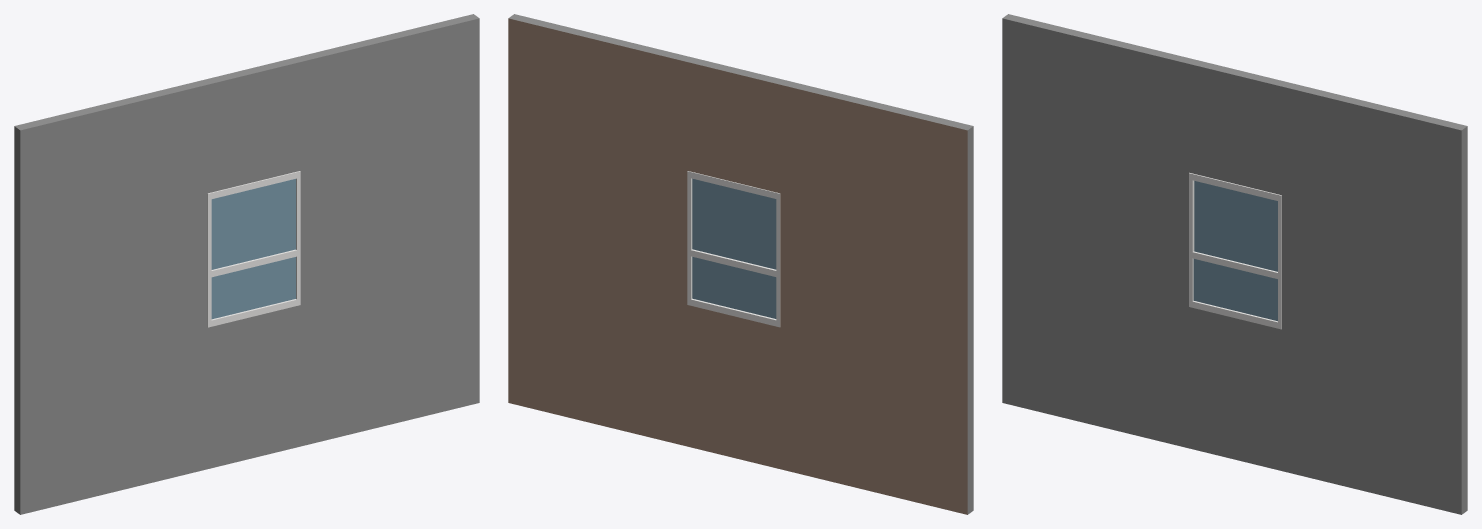
The model's file is Wall_10.fbx.
3 views of the same model, side by side, from view 1: azimuth 30°, elevation 25°; view 2: azimuth 150°, elevation 25°; view 3: azimuth 330°, elevation 25° (orthographic).
Visible parts, largest first — view 1: Wall_10; view 2: Wall_10; view 3: Wall_10.
Part boxes in pixels (x1,y1,x2,y2): Wall_10: [14, 14, 479, 514]; Wall_10: [508, 14, 973, 514]; Wall_10: [1002, 14, 1467, 514].
Bounding box in the file's own units: 490 × 13.03 × 392.
